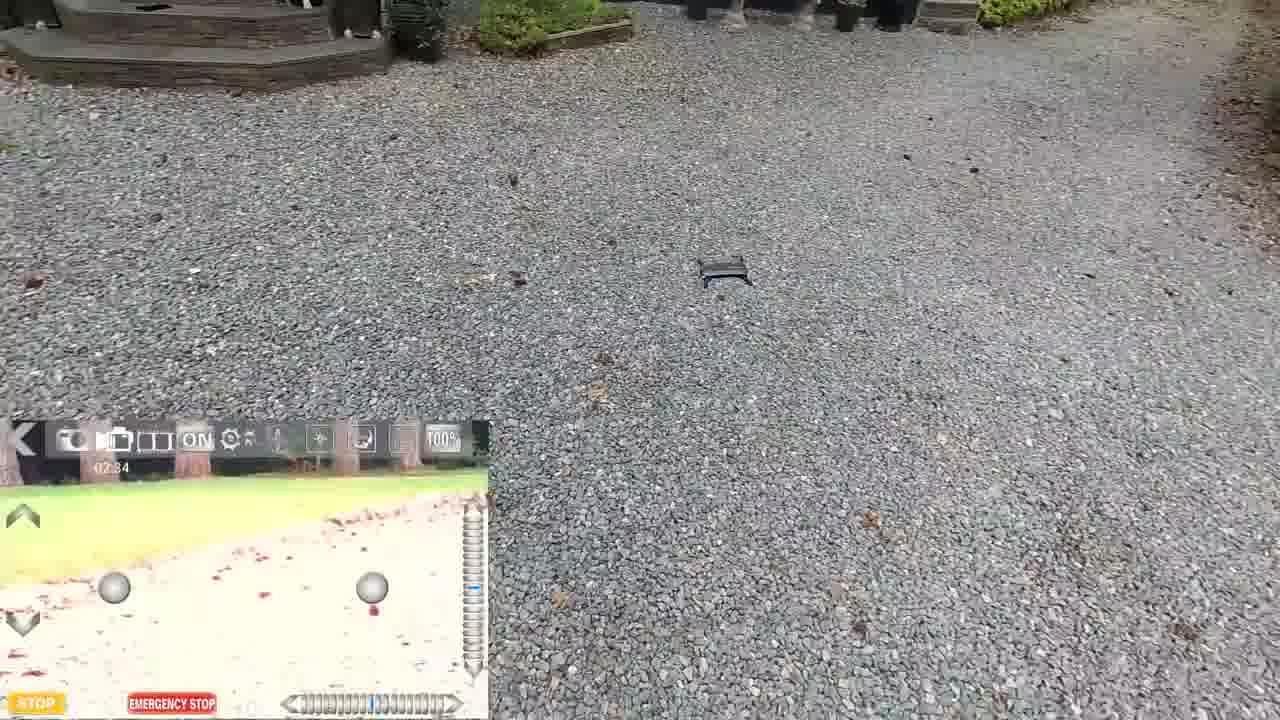drone: (674, 244, 772, 294)
